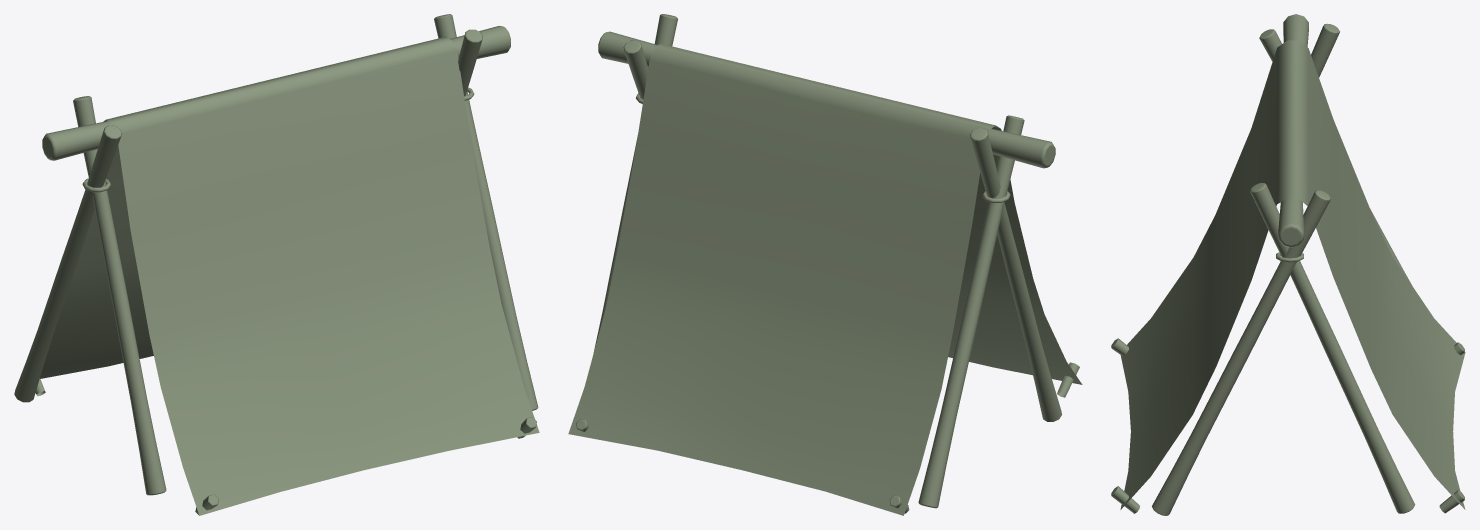
File: SM_Tent.fbx
3 views of the same model, side by side, from view 1: azimuth 30°, elevation 25°; view 2: azimuth 150°, elevation 25°; view 3: azimuth 270°, elevation 25° (orthographic). The views are drawn at different scales.
Visible parts, largest first — view 1: SM_TentB_low.001; view 2: SM_TentB_low.001; view 3: SM_TentB_low.001.
Boxes of the visible parts, <box> form: SM_TentB_low.001: <box>14,14,539,515</box>; SM_TentB_low.001: <box>568,14,1082,515</box>; SM_TentB_low.001: <box>1111,14,1465,515</box>.
Size of the model in its own units: 227 by 168 by 160.
